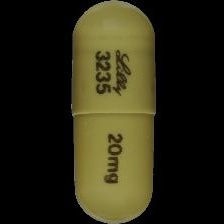68151-4734: (0, 0, 224, 224)
